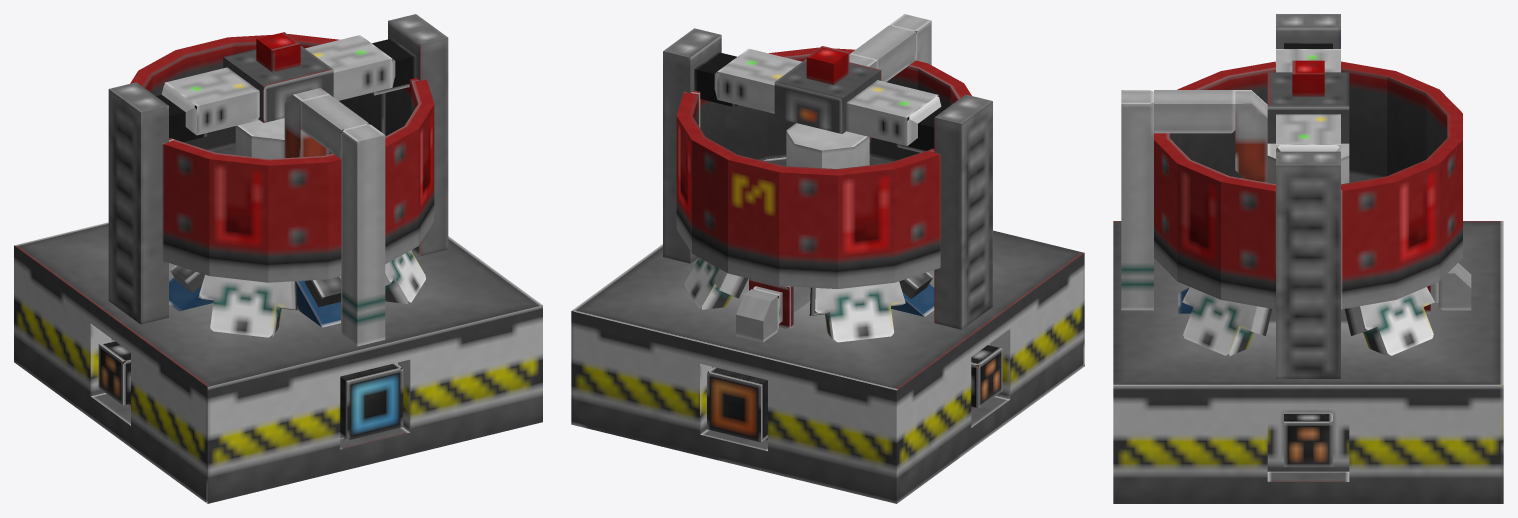
File: thickener.obj
3 views of the same model, side by side, from view 1: azimuth 30°, elevation 25°; view 2: azimuth 150°, elevation 25°; view 3: azimuth 270°, elevation 25° (orthographic). The views are drawn at different scales.
Visible parts, largest first — view 1: cube.059_cube.base_cube.059, cube.001_立方体.001, cube.023_柱体; view 2: cube.059_cube.base_cube.059, cube.001_立方体.001, cube.023_柱体; view 3: cube.059_cube.base_cube.059, cube.001_立方体.001, cube.023_柱体.
Boxes of the visible parts, bbox=[...] form: cube.059_cube.base_cube.059: bbox=[14, 222, 542, 503]; cube.001_立方体.001: bbox=[108, 14, 448, 346]; cube.023_柱体: bbox=[130, 34, 434, 282]; cube.059_cube.base_cube.059: bbox=[571, 230, 1084, 503]; cube.001_立方体.001: bbox=[663, 14, 992, 342]; cube.023_柱体: bbox=[676, 47, 971, 288]; cube.059_cube.base_cube.059: bbox=[1113, 221, 1503, 503]; cube.001_立方体.001: bbox=[1121, 14, 1471, 378]; cube.023_柱体: bbox=[1154, 61, 1462, 309].
Bounding box in the file's own units: 3 × 3 × 3.
